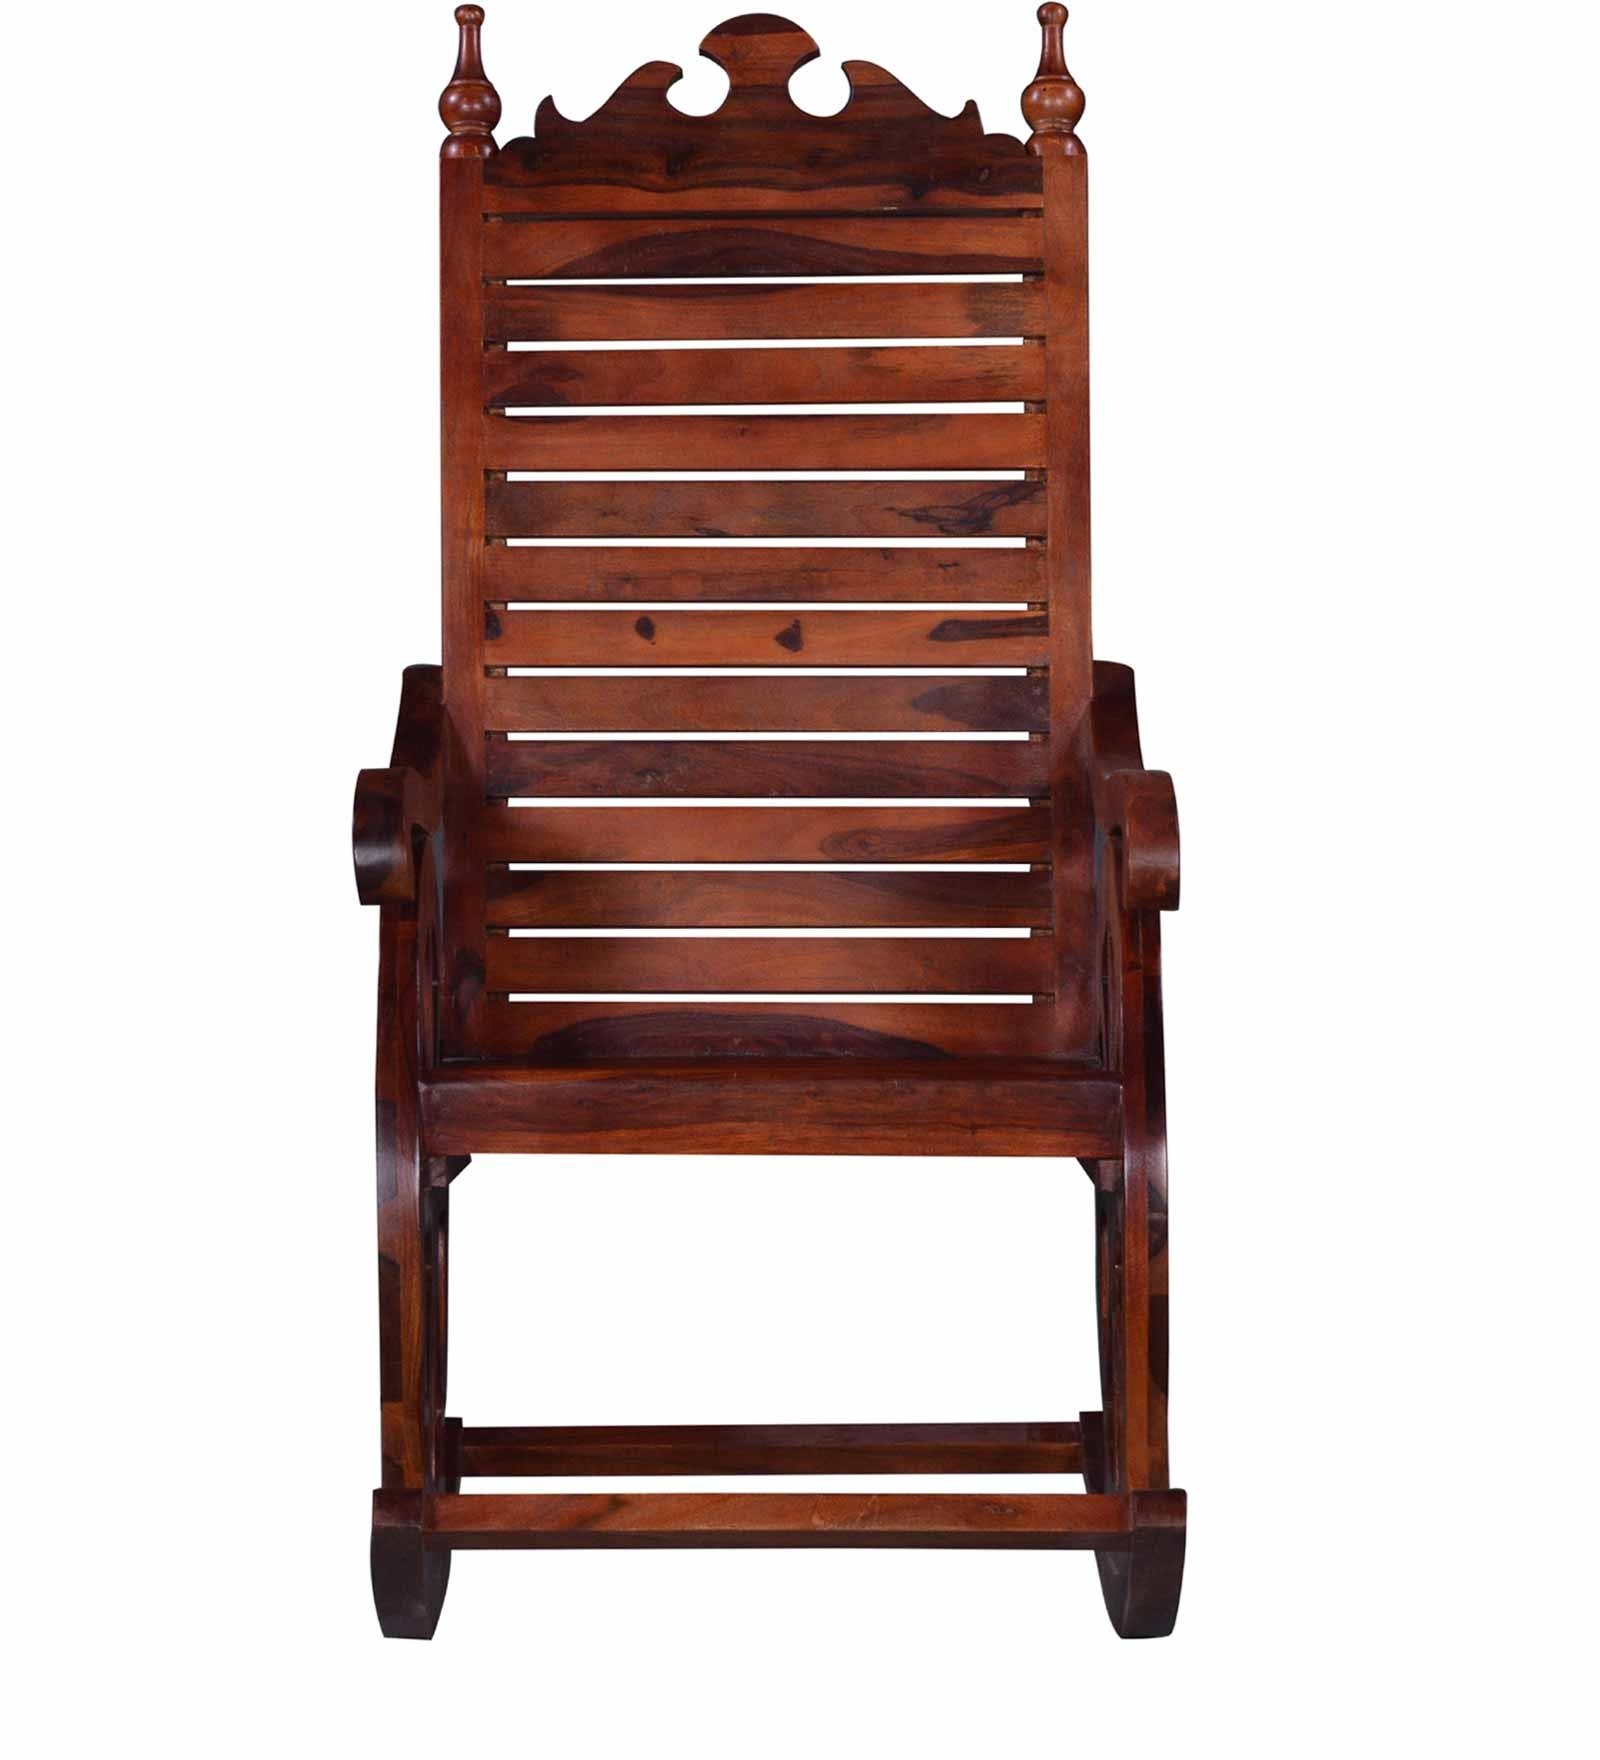Harold Rocking Chair in Honey Oak Finish by Amberville: (290, 8, 1313, 1728)
